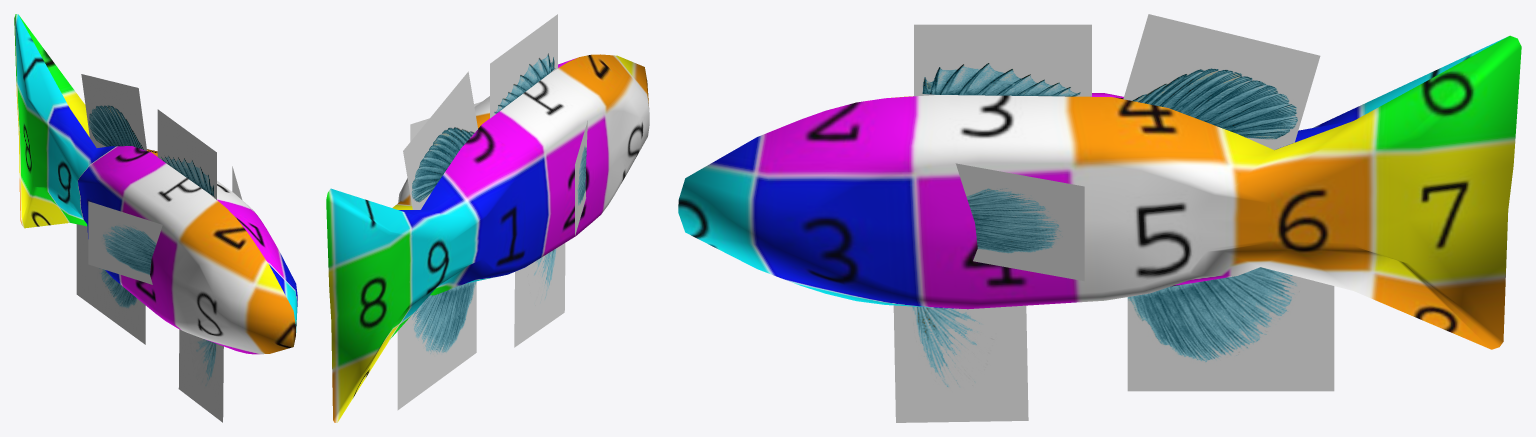
File: fish.FBX
3 renders of one model, left to right at view 1: azimuth 30°, elevation 25°; view 2: azimuth 150°, elevation 25°; view 3: azimuth 270°, elevation 25°, orthographic. The views are drawn at different scales.
Parts seen in each view (by area): view 1: fish, fin005, fin002, fin001, fin, fin003; view 2: fish, fin001, fin002, fin003, fin, fin005; view 3: fish, fin001, fin002, fin, fin003, fin004.
Boxes of the visible parts, x1,y1,x2,y2 form: fish: (14,14,297,354); fin005: (88,201,162,284); fin002: (81,74,146,150); fin001: (76,224,145,344); fin: (178,329,223,422); fin003: (157,109,216,199); fish: (326,54,649,422); fin001: (397,281,476,410); fin002: (403,71,477,209); fin003: (490,14,557,118); fin: (514,243,565,347); fin005: (575,120,587,235); fish: (678,35,1521,349); fin001: (1127,267,1334,391); fin002: (1123,14,1320,149); fin: (893,305,1028,422); fin003: (914,24,1091,96); fin004: (955,163,1084,281).
Bounding box in the file's own units: 87.28 × 158 × 295.
Materials: 6 (6 with a texture image).
